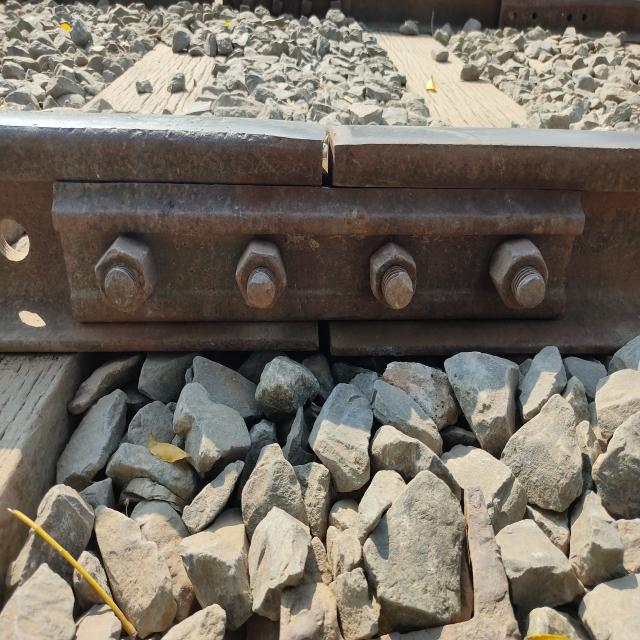Faults: (299, 122, 352, 194), (1, 196, 36, 271), (20, 292, 50, 348)
